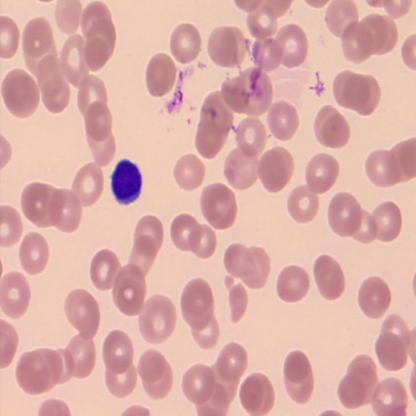Lymphocyte: (110, 158, 142, 206)
